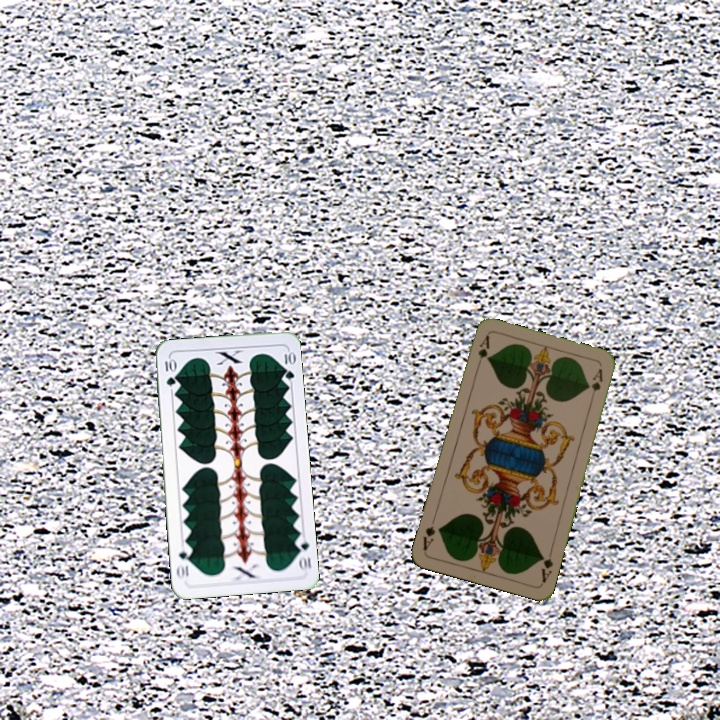G10: (292, 533, 314, 574), (161, 354, 178, 389)
GA: (537, 545, 556, 585), (473, 331, 492, 371)
